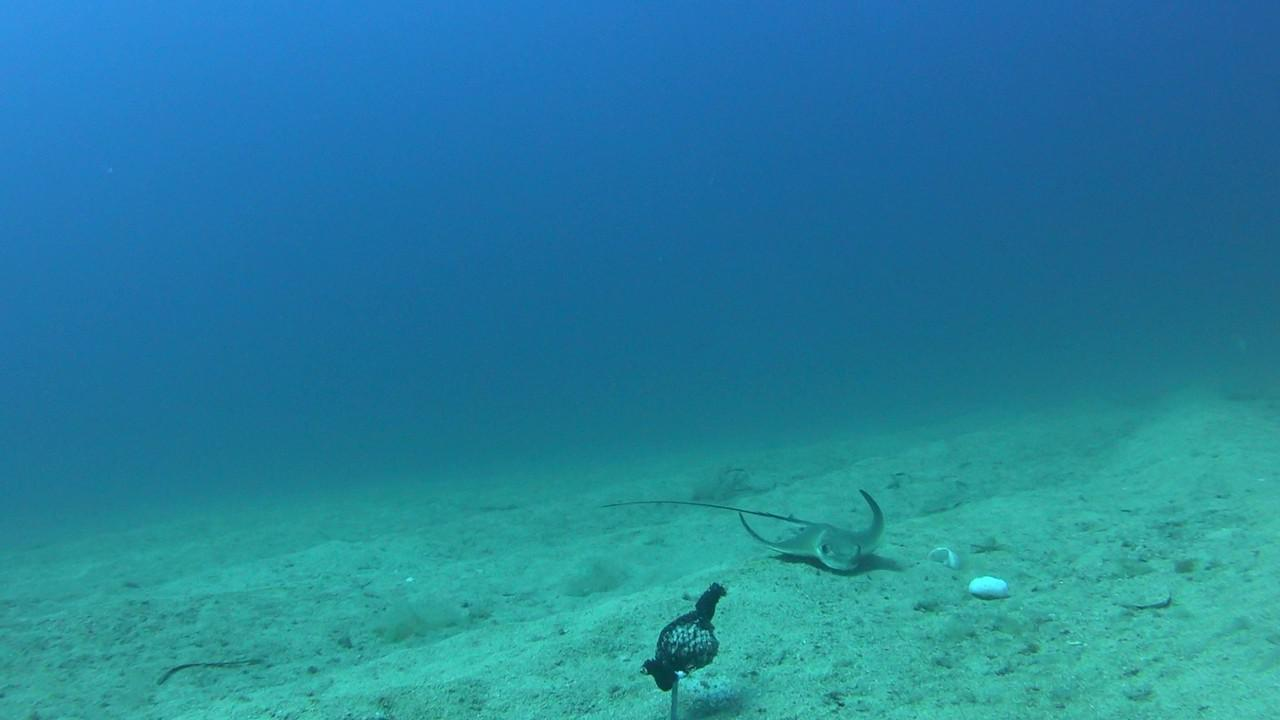myliobatis: (583, 482, 891, 579)
